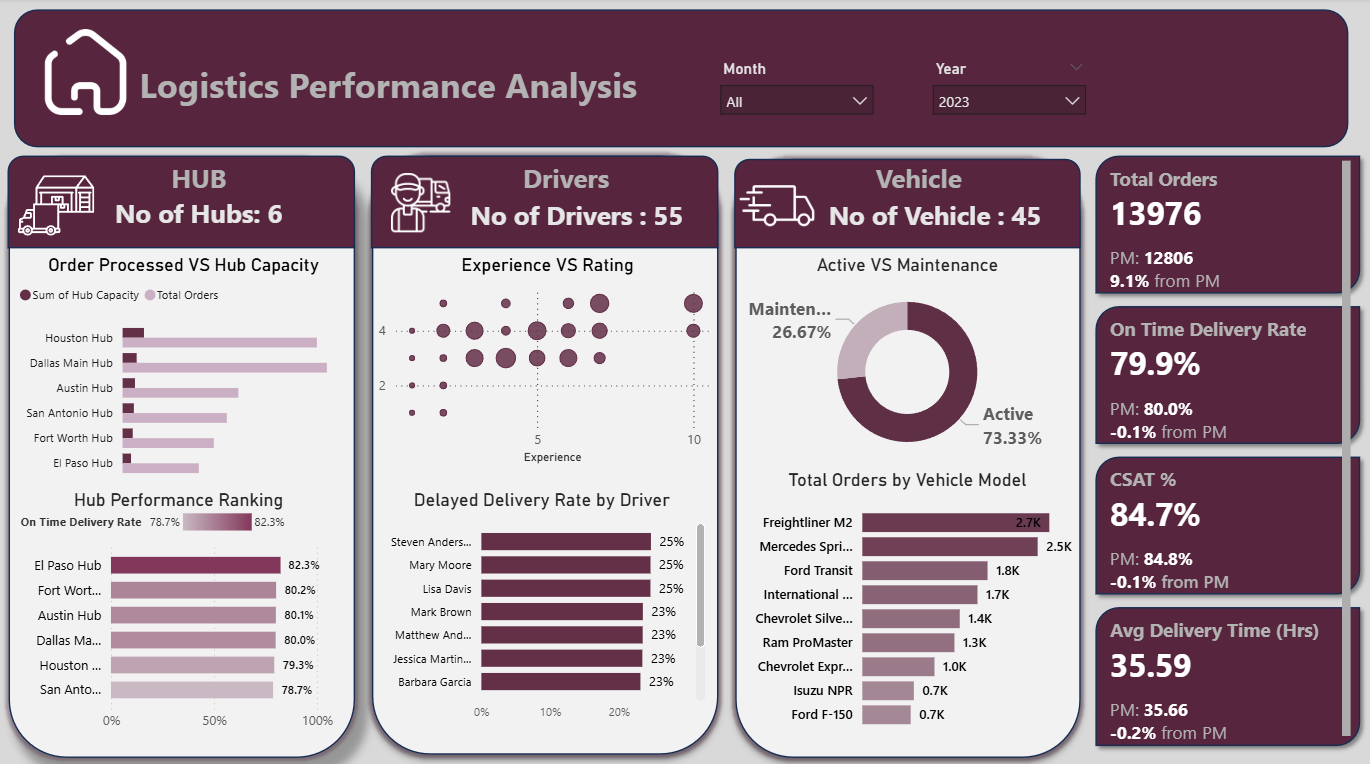

The page's visual inventory and layout, read from the dashboard file:
{"tool":"powerbi","page":{"name":"Overview","canvas":[1280,720],"ordinal":1},"visuals":[{"type":"barChart","title":"Hub Performance Ranking","fields":{"Category":["Hubs.HubName"],"Y":["-Measures.On Time Delivery Rate"]},"box":[16.3,457,303.5,233.7],"z":0},{"type":"clusteredBarChart","title":"Order Processed VS Hub Capacity","fields":{"Category":["Hubs.HubName"],"Y":["Sum(Hubs.Hub Capacity)","-Measures.Total Orders"]},"box":[15.6,238.5,315.2,218.1],"z":1000},{"type":"scatterChart","title":"Experience VS Rating ","fields":{"X":["Drivers.Experience Years"],"Y":["Drivers.Performance Rating"],"Size":["CountNonNull(Drivers.Experience Years)1"]},"box":[348.8,238.5,324.8,200.1],"z":2000},{"type":"barChart","title":"Delayed Delivery Rate by Driver","fields":{"Y":["_Measures.Delayed Delivery Rate"],"Category":["Drivers.DriverName"]},"box":[348.8,456.6,314,224.1],"z":3000},{"type":"clusteredBarChart","fields":{"Category":["Vehicles.Vehicle Model"],"Y":["_Measures.Total Orders."]},"box":[686.4,438.4,318.5,252],"z":4000},{"type":"textbox","box":[24,146.2,324.8,49.1],"z":5000},{"type":"advanceCardE03760C5AB684758B56AA29F9E6C257B","fields":{"mainMeasure":["_Measures.No of Hubs"]},"box":[67.8,171.3,236.8,60.9],"z":6000},{"type":"cardVisual","fields":{"Data":["Drivers.NO of Drivers"]},"box":[393.1,171.4,291.2,59.9],"z":7000},{"type":"textbox","box":[394.3,146.2,268.5,50.3],"z":8000},{"type":"image","box":[338,163,110.3,55.1],"z":9000},{"type":"textbox","box":[725.1,146.2,268.5,50.3],"z":10000},{"type":"cardVisual","fields":{"Data":["_Measures.No of Drivers"]},"box":[725.1,171.4,292.4,59.9],"z":11000},{"type":"image","box":[678.4,161.8,93.5,62.3],"z":12000},{"type":"slicer","fields":{"Values":["Date Table.Year"]},"box":[1035.7,49.1,163,73.6],"z":13000},{"type":"slicer","fields":{"Values":["Date Table.Month"]},"box":[855.2,49.5,163,72.8],"z":14000},{"type":"cardVisual","title":"Card Total Orders","fields":{"Data":["_Measures.Total Orders"]},"box":[1017.5,147.5,262.5,130],"z":15000},{"type":"image","box":[23.8,71.3,215.5,283.6],"z":16000},{"type":"cardVisual","title":"Card On Time Delivery Rate","fields":{"Data":["_Measures.On Time Delivery Rate"]},"box":[1017.5,283.8,250,136.2],"z":17000},{"type":"cardVisual","title":"Card CSAT","fields":{"Data":["_Measures.CSAT %"]},"box":[1017.5,420,250,145],"z":18000},{"type":"cardVisual","title":"Card Avg Delivery Time","fields":{"Data":["_Measures.Avg Delivery Time (Hrs)"]},"box":[1017.5,565,250,142.5],"z":19000},{"type":"image","box":[175,71.3,50.8,50.8],"z":20000},{"type":"textbox","box":[166.5,24.5,399.6,61.3],"z":21000},{"type":"image","box":[84,23.8,82.4,91.9],"z":22000},{"type":"image","box":[3.2,49.1,90.3,50.7],"z":23000},{"type":"image","box":[1205.7,40.3,52.6,66.6],"z":24000},{"type":"donutChart","title":"Active Vs Maintenance","fields":{"Category":["Vehicles.Vehicle Status"],"Y":["_Measures.Total Vehicles"]},"box":[687,240.1,317.2,198],"z":25000},{"type":"image","box":[225,68.1,65,58.6],"z":26000}]}

Visuals, with their boxes in screenshot pixels (x1, y1, x2, y2), scaled from the page's 1280x720 canvas onto the 1370x764 screenshot:
"Hub Performance Ranking" barChart: box=[17, 485, 342, 733]
"Order Processed VS Hub Capacity" clusteredBarChart: box=[17, 253, 354, 485]
"Experience VS Rating " scatterChart: box=[373, 253, 721, 465]
"Delayed Delivery Rate by Driver" barChart: box=[373, 485, 709, 722]
clusteredBarChart - Vehicles.Vehicle Model x _Measures.Total Orders.: box=[735, 465, 1076, 733]
textbox: box=[26, 155, 373, 207]
advanceCardE03760C5AB684758B56AA29F9E6C257B - _Measures.No of Hubs: box=[73, 182, 326, 246]
cardVisual - Drivers.NO of Drivers: box=[421, 182, 732, 245]
textbox: box=[422, 155, 709, 209]
image: box=[362, 173, 480, 231]
textbox: box=[776, 155, 1063, 209]
cardVisual - _Measures.No of Drivers: box=[776, 182, 1089, 245]
image: box=[726, 172, 826, 238]
slicer - Date Table.Year: box=[1109, 52, 1283, 130]
slicer - Date Table.Month: box=[915, 53, 1090, 130]
"Card Total Orders" cardVisual: box=[1089, 157, 1369, 294]
image: box=[25, 76, 256, 377]
"Card On Time Delivery Rate" cardVisual: box=[1089, 301, 1357, 446]
"Card CSAT" cardVisual: box=[1089, 446, 1357, 600]
"Card Avg Delivery Time" cardVisual: box=[1089, 600, 1357, 751]
image: box=[187, 76, 242, 130]
textbox: box=[178, 26, 606, 91]
image: box=[90, 25, 178, 123]
image: box=[3, 52, 100, 106]
image: box=[1290, 43, 1347, 113]
"Active Vs Maintenance" donutChart: box=[735, 255, 1075, 465]
image: box=[241, 72, 310, 134]
